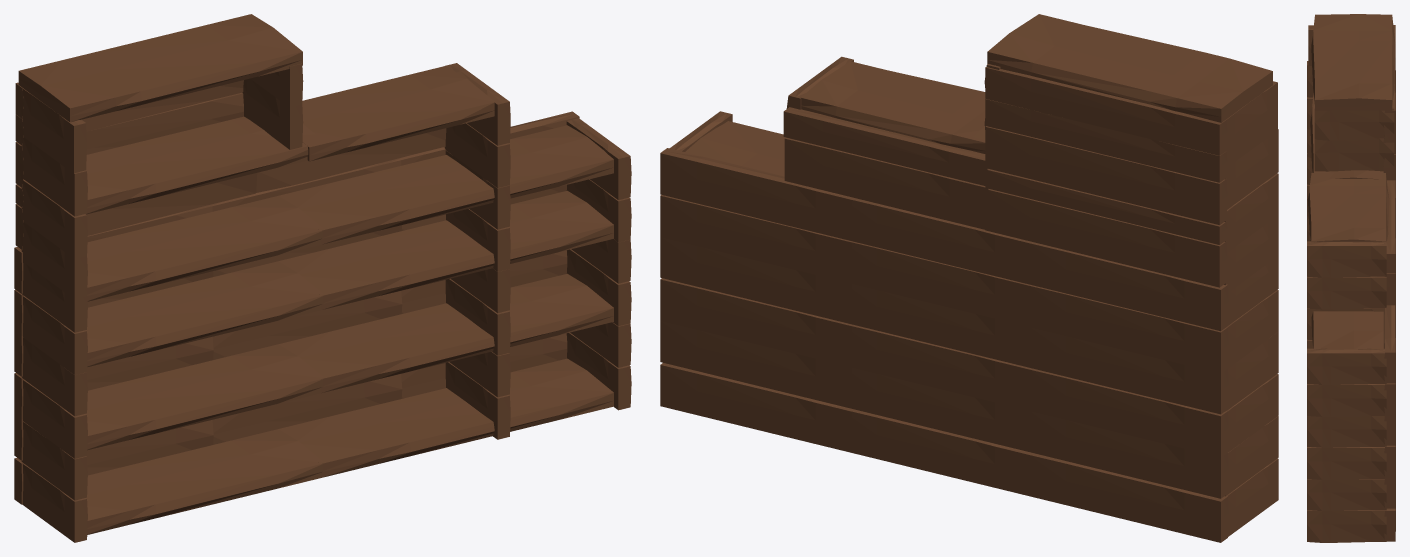
Rendered from Regal.fbx.
The picture shows the model from 3 angles, left to right: view 1: azimuth 30°, elevation 25°; view 2: azimuth 150°, elevation 25°; view 3: azimuth 270°, elevation 25°; orthographic projection. The views are drawn at different scales.
Visible parts, largest first — view 1: Holzi_60, Holzi_37, Holzi_33, Holzi_35, Holzi_31, Holzi_36, Holzi_32, Holzi_30, Holzi_34, Holzi_52, Holzi_53, Holzi (+40 smaller); view 2: Holzi_60, Holzi_56, Holzi_44, Holzi_53, Holzi_45, Holzi_1, Holzi_17, Holzi_15, Holzi_6, Holzi_12, Holzi, Holzi_3 (+28 smaller); view 3: Holzi_60, Holzi_53, Holzi_51, Holzi_29, Holzi_37, Holzi_50, Holzi_26, Holzi_24, Holzi_28, Holzi_25, Holzi_27, Holzi_57 (+19 smaller).
Part boxes in pixels (<box>): Holzi_60: <box>18,14,302,122</box>; Holzi_37: <box>279,125,613,244</box>; Holzi_33: <box>279,358,613,477</box>; Holzi_35: <box>279,190,613,309</box>; Holzi_31: <box>279,273,613,393</box>; Holzi_36: <box>87,196,323,301</box>; Holzi_32: <box>86,429,323,534</box>; Holzi_30: <box>86,344,323,450</box>; Holzi_34: <box>86,261,323,366</box>; Holzi_52: <box>86,116,314,214</box>; Holzi_53: <box>302,66,495,161</box>; Holzi: <box>212,374,402,444</box>; Holzi_60: <box>987,14,1272,122</box>; Holzi_56: <box>985,126,1227,224</box>; Holzi_44: <box>985,189,1227,287</box>; Holzi_53: <box>800,61,985,153</box>; Holzi_45: <box>784,137,988,229</box>; Holzi_1: <box>1029,453,1228,542</box>; Holzi_17: <box>660,148,853,237</box>; Holzi_15: <box>1029,242,1228,331</box>; Holzi_6: <box>1029,368,1228,457</box>; Holzi_12: <box>1029,285,1228,373</box>; Holzi: <box>839,408,1033,495</box>; Holzi_3: <box>1029,411,1228,498</box>; Holzi_60: <box>1311,14,1395,110</box>; Holzi_53: <box>1307,172,1389,242</box>; Holzi_51: <box>1307,241,1386,277</box>; Holzi_29: <box>1307,348,1386,384</box>; Holzi_37: <box>1311,311,1384,348</box>; Holzi_50: <box>1307,276,1386,309</box>; Holzi_26: <box>1307,447,1386,479</box>; Holzi_24: <box>1307,510,1386,542</box>; Holzi_28: <box>1307,384,1386,416</box>; Holzi_25: <box>1307,479,1386,510</box>; Holzi_27: <box>1307,416,1386,447</box>; Holzi_57: <box>1314,138,1394,171</box>.
Bounding box in the file's own units: 605 × 449 × 110.
